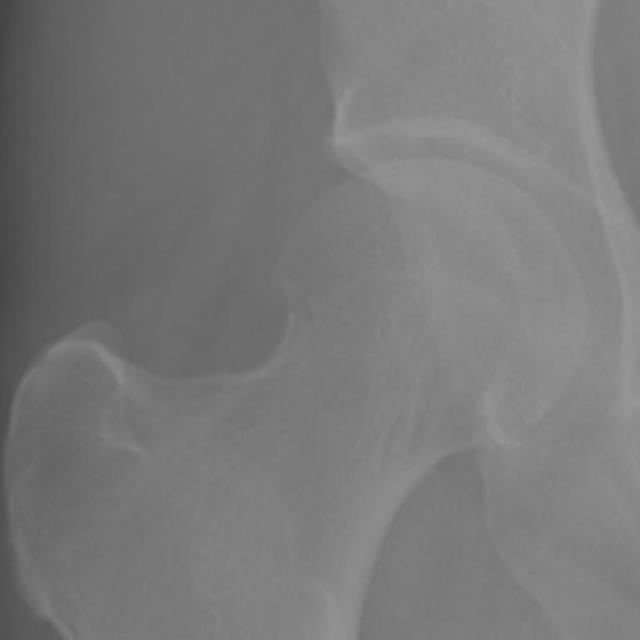Fitted_femural_head: (318, 158, 432, 318)
